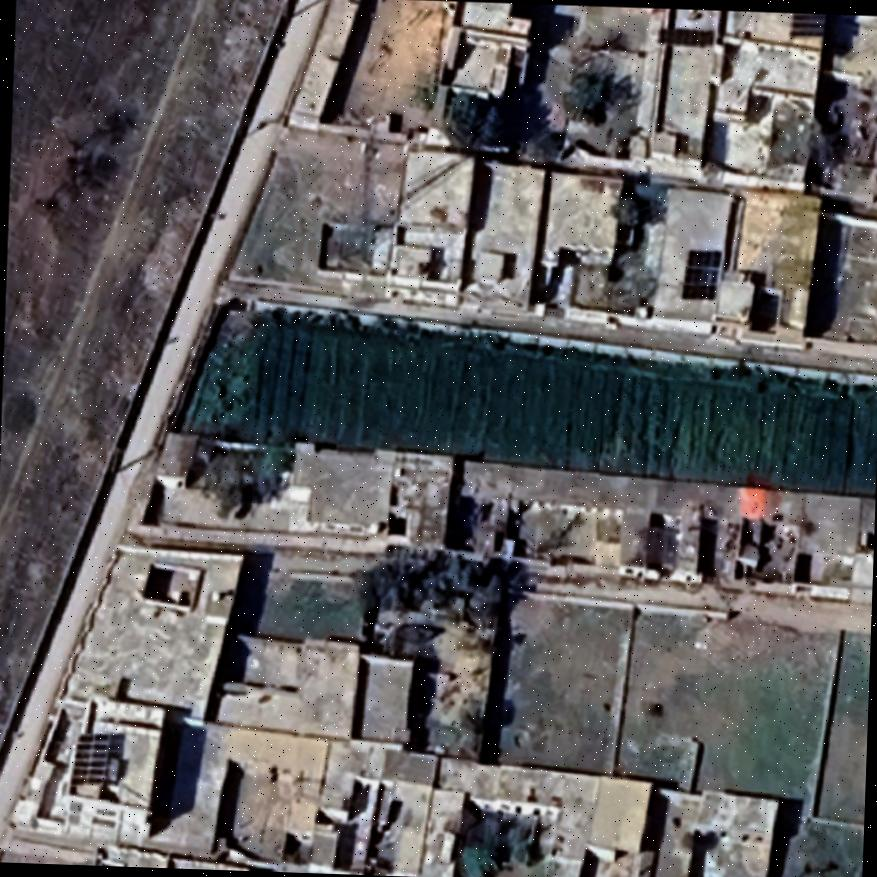Solarpanel: (68, 728, 122, 792), (677, 243, 727, 304), (661, 23, 718, 47), (786, 12, 829, 40)
